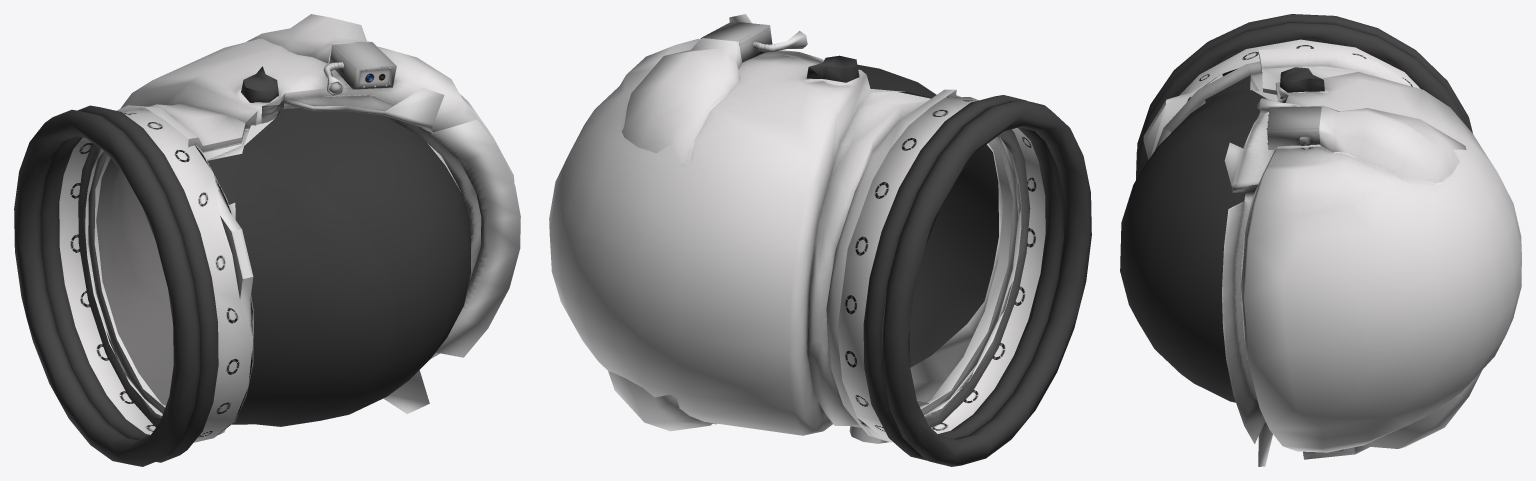
Rendered from SpaceHelmet.fbx.
3 views of the same model, side by side, from view 1: azimuth 30°, elevation 25°; view 2: azimuth 150°, elevation 25°; view 3: azimuth 270°, elevation 25° (orthographic). The views are drawn at different scales.
Parts seen in each view (by area): view 1: Helmet-Body.001; view 2: Helmet-Body.001; view 3: Helmet-Body.001.
Part boxes in pixels (x1,y1,x2,y2): Helmet-Body.001: (14, 14, 520, 466); Helmet-Body.001: (549, 14, 1091, 466); Helmet-Body.001: (1120, 14, 1521, 466).
Size of the model in its own units: 0.233 by 0.2016 by 0.2119.
